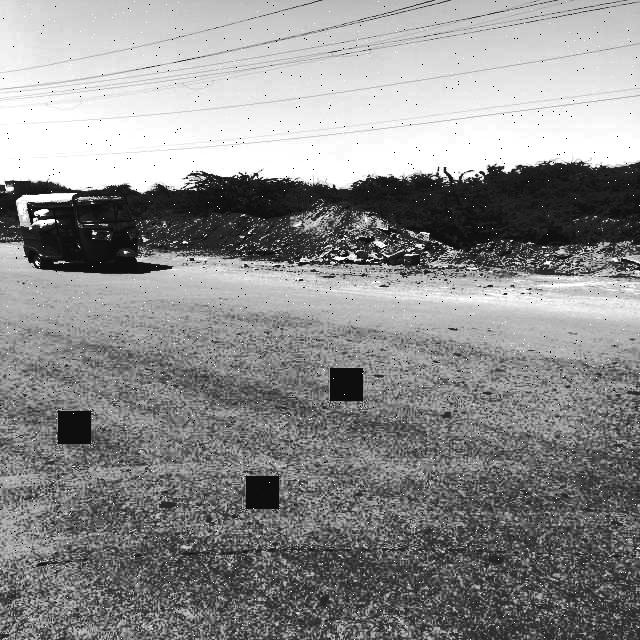Auto-Rickshaw: (6, 188, 150, 274)
